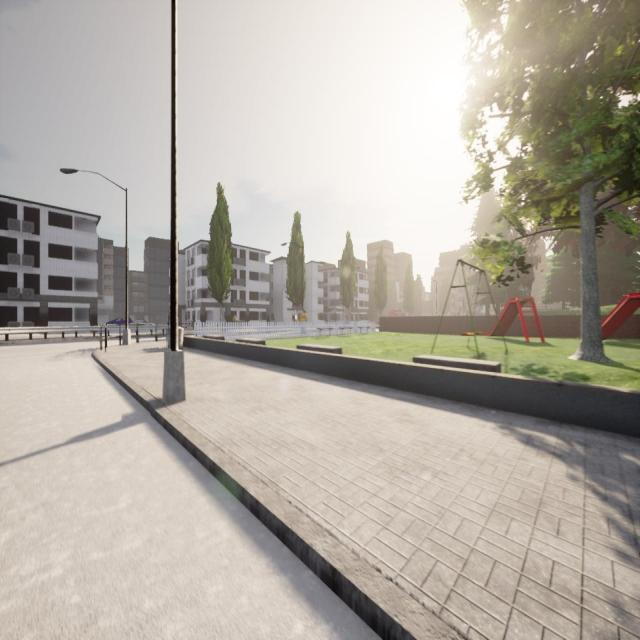Pedestrian: (298, 309, 308, 323), (232, 313, 237, 321)
Vehicle: (105, 317, 133, 325)
